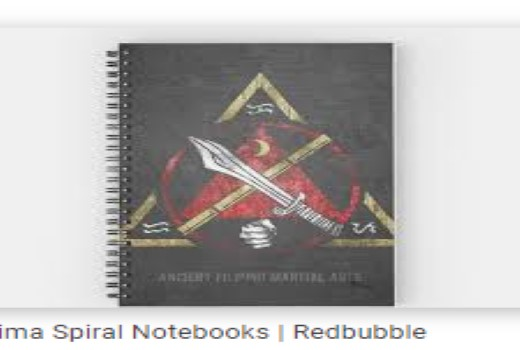baston_e: (189, 134, 318, 237)
baston_v: (318, 126, 335, 148), (175, 219, 188, 241)
